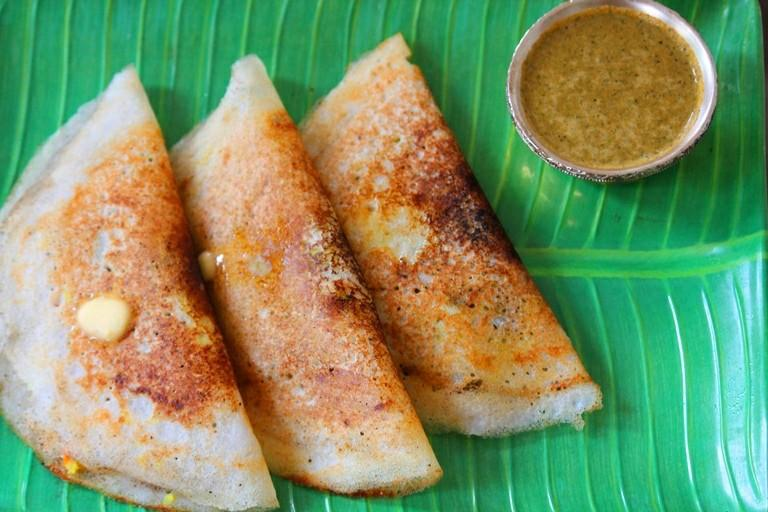Dosa: (0, 62, 279, 512), (294, 33, 601, 439), (174, 55, 445, 494)
